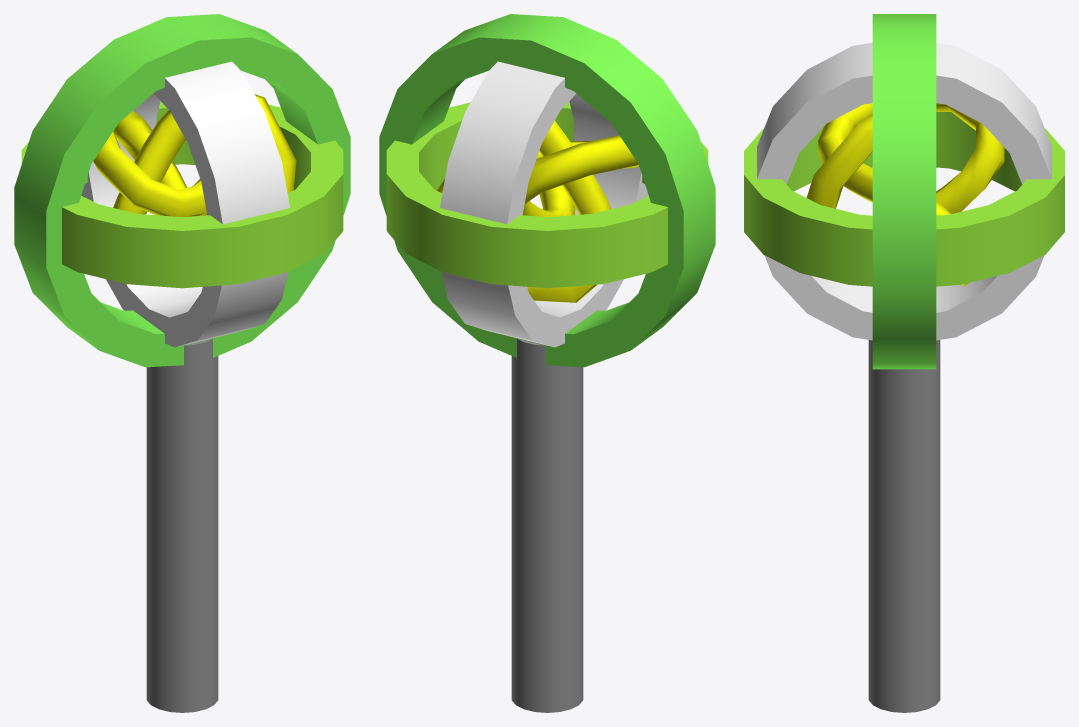
Rendered from Link Penlight.FBX.
The picture shows the model from 3 angles, left to right: view 1: azimuth 30°, elevation 25°; view 2: azimuth 150°, elevation 25°; view 3: azimuth 270°, elevation 25°; orthographic projection.
Parts seen in each view (by area): view 1: Cylinder001, Object001; view 2: Cylinder001, Object001; view 3: Cylinder001, Object001.
Boxes of the visible parts, x1,y1,x2,y2 form: Cylinder001: [14, 14, 350, 367]; Object001: [146, 338, 218, 712]; Cylinder001: [379, 14, 715, 367]; Object001: [511, 338, 583, 712]; Cylinder001: [744, 14, 1064, 369]; Object001: [868, 340, 940, 712].
Bounding box in the file's own units: 16.9 × 35.45 × 15.44.
